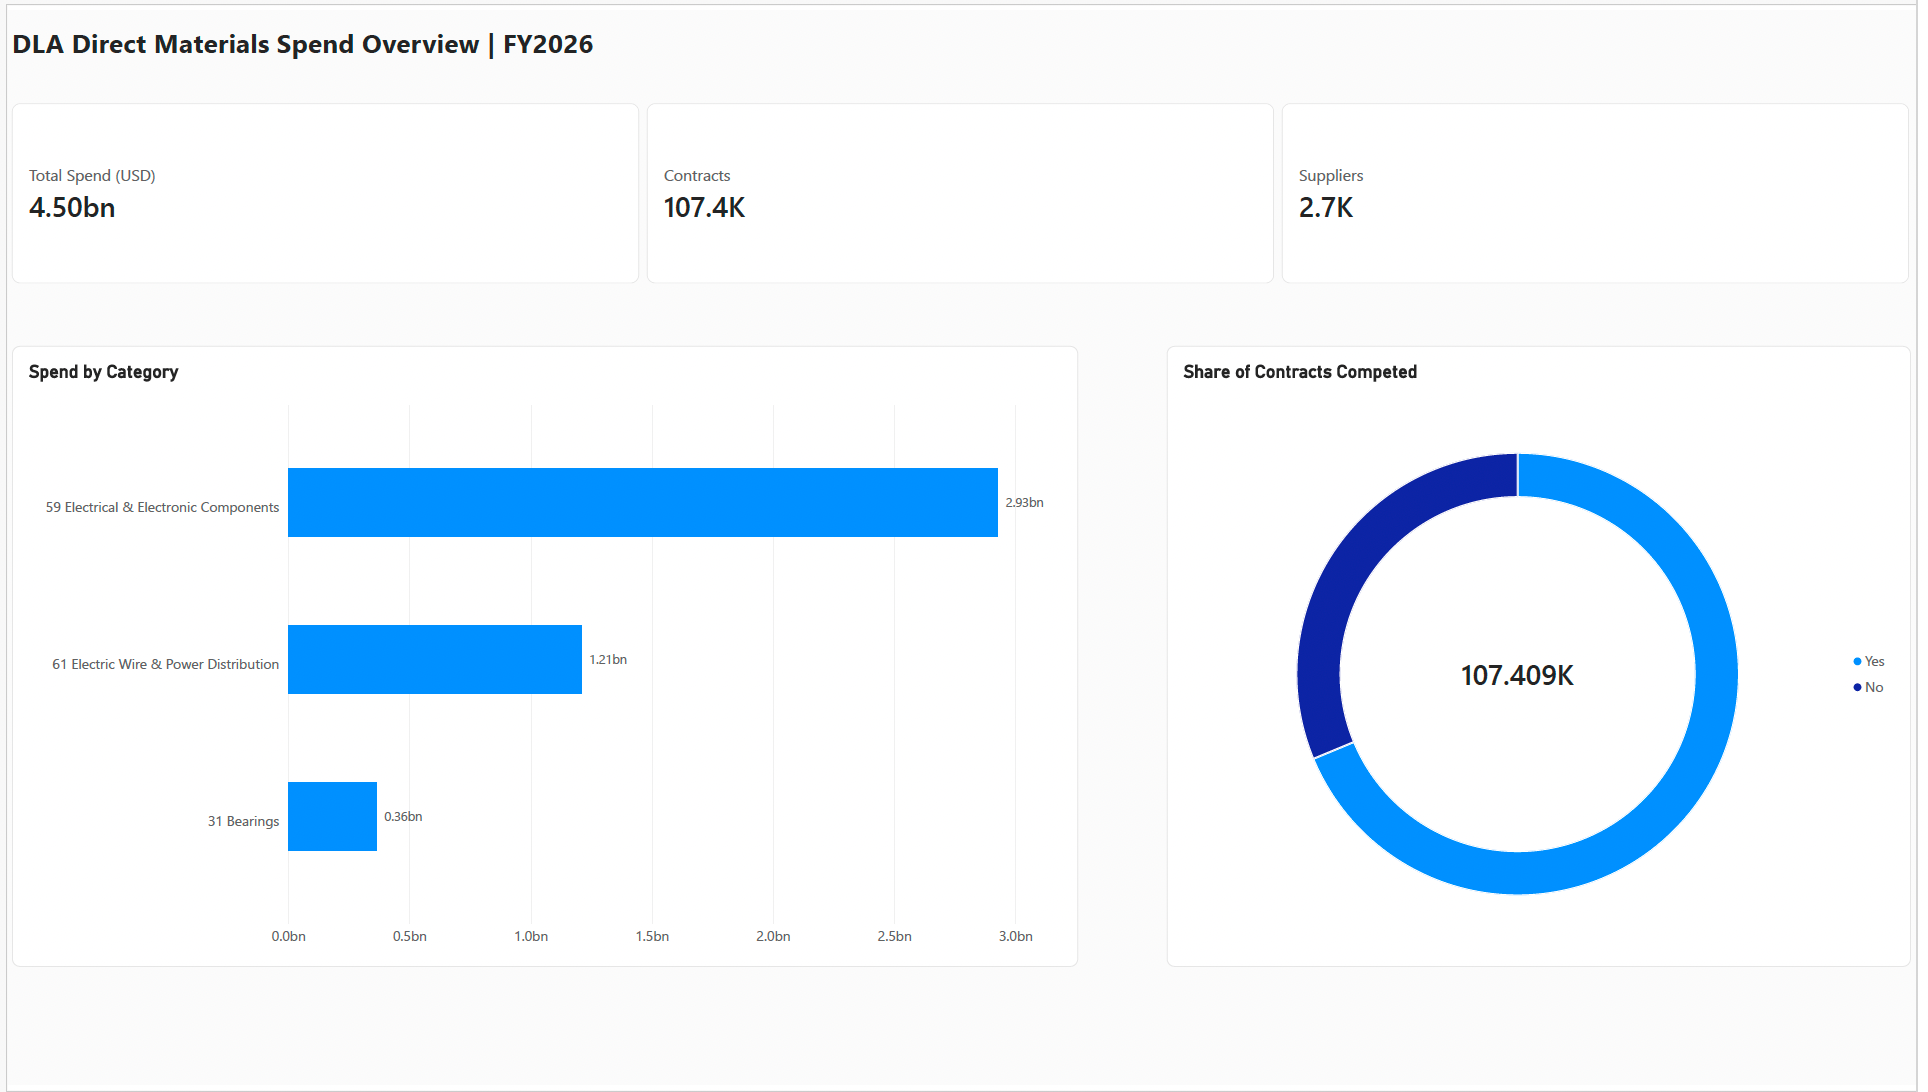

What the dashboard file says about the page in this screenshot:
{"tool":"powerbi","page":{"name":"Spend Overview","canvas":[1920,1080],"ordinal":0},"visuals":[{"type":"cardVisual","fields":{"Data":["Sum(Contracts.Obligated Amount (USD))","CountNonNull(Contracts.Award ID)","Count(Contracts.Supplier)"]},"box":[4.4,93.1,1911.1,181.8],"z":0},{"type":"clusteredBarChart","title":"Spend by Category","fields":{"Category":["Contracts.Category"],"Y":["Sum(Contracts.Obligated Amount (USD))"]},"box":[4.4,337,1073.1,625.2],"z":1000},{"type":"donutChart","title":"Share of Contracts Competed","fields":{"Category":["Contracts.Competed"],"Y":["CountNonNull(Contracts.Award ID)"]},"box":[1166.2,337,749.4,625.2],"z":2000},{"type":"textbox","box":[3.7,12.8,798,80.5],"z":3000}]}

Visuals, with their boxes in screenshot pixels (x1, y1, x2, y2), scaled from the page's 1920x1080 canvas onto the 1928x1092 screenshot:
cardVisual - Sum(Contracts.Obligated Amount (USD)) x CountNonNull(Contracts.Award ID): (4,94,1923,278)
"Spend by Category" clusteredBarChart: (4,341,1082,973)
"Share of Contracts Competed" donutChart: (1171,341,1924,973)
textbox: (4,13,805,94)
